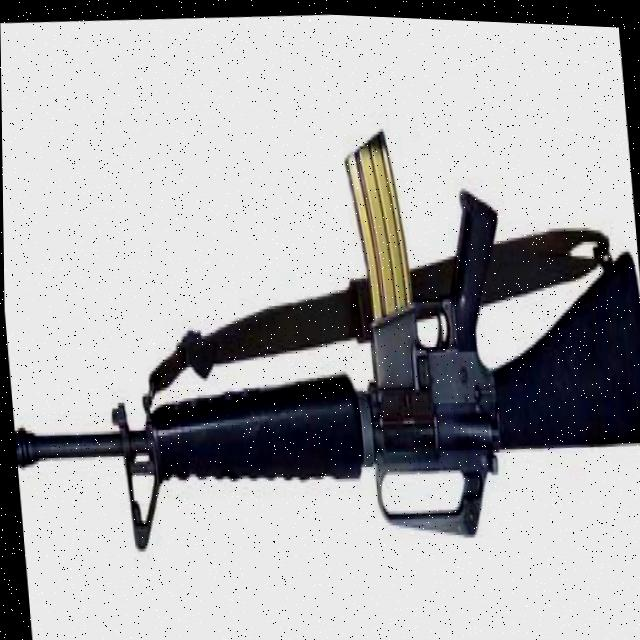firearm: (1, 95, 640, 574)
